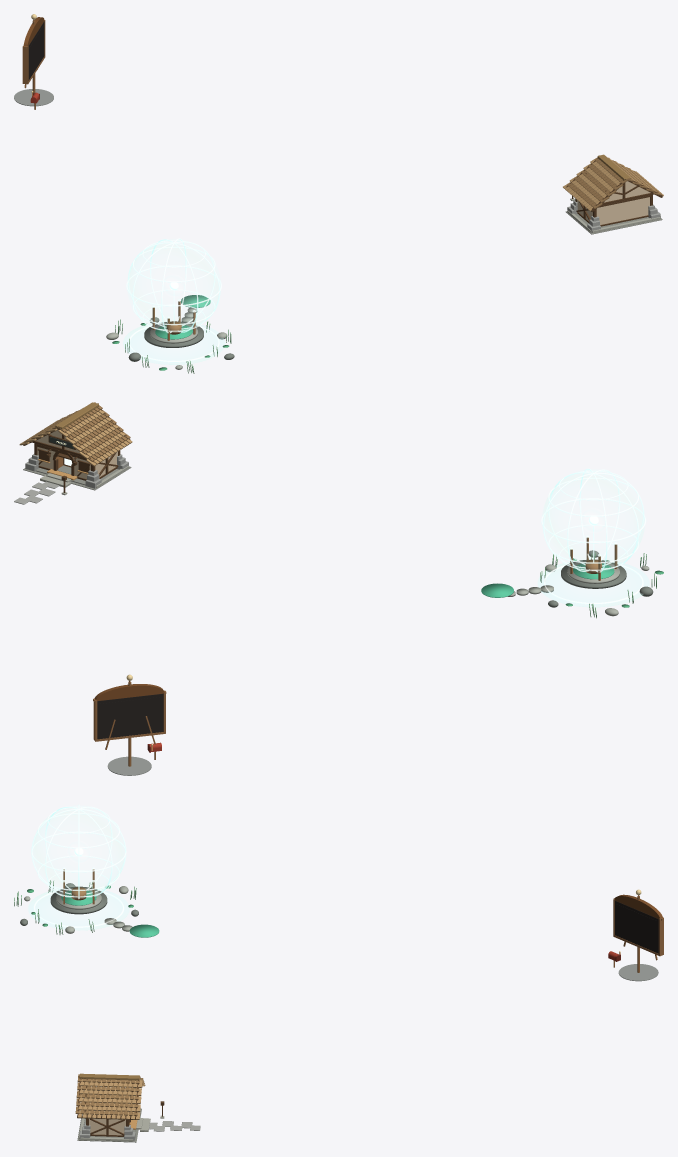
Rendered from areas.glb.
3 views of the same model, one above another, from view 1: azimuth 30°, elevation 25°; view 2: azimuth 150°, elevation 25°; view 3: azimuth 270°, elevation 25° (orthographic). The views are drawn at different scales.
Parts seen in each view (by area): view 1: skillSphere_orb_shell, skillSphere_waterline_disc, projectHut_roof_shingles_b, projectHut_roof_shingles_a, projectHut_back_wall; view 2: skillSphere_orb_shell, skillSphere_waterline_disc, contactBoard_face_inset, projectHut_roof_shingles_a, projectHut_roof_shingles_b, contactBoard_arch_top, contactBoard_approach_pad, contact_inscription_plinth, skillSphere_plinth_lower; view 3: skillSphere_orb_shell, skillSphere_waterline_disc, projectHut_roof_shingles_a, projectHut_roof_shingles_b, contactBoard_face_inset, contactBoard_approach_pad, skillSphere_plinth_lower, contactBoard_arch_top.
Part boxes in pixels (left/top/right/bottom): skillSphere_orb_shell: left=128, top=239, right=220, bottom=332; skillSphere_waterline_disc: left=123, top=322, right=224, bottom=364; projectHut_roof_shingles_b: left=567, top=158, right=661, bottom=208; projectHut_roof_shingles_a: left=563, top=157, right=663, bottom=211; projectHut_back_wall: left=596, top=197, right=649, bottom=224; skillSphere_orb_shell: left=543, top=469, right=644, bottom=571; skillSphere_waterline_disc: left=538, top=560, right=649, bottom=606; contactBoard_face_inset: left=99, top=697, right=161, bottom=737; projectHut_roof_shingles_a: left=19, top=410, right=132, bottom=466; projectHut_roof_shingles_b: left=24, top=402, right=130, bottom=461; contactBoard_arch_top: left=94, top=684, right=164, bottom=700; contactBoard_approach_pad: left=107, top=756, right=151, bottom=775; contact_inscription_plinth: left=97, top=693, right=163, bottom=739; skillSphere_plinth_lower: left=561, top=559, right=626, bottom=588; skillSphere_orb_shell: left=33, top=806, right=124, bottom=897; skillSphere_waterline_disc: left=28, top=889, right=129, bottom=930; projectHut_roof_shingles_a: left=77, top=1078, right=145, bottom=1119; projectHut_roof_shingles_b: left=75, top=1074, right=142, bottom=1115; contactBoard_face_inset: left=616, top=904, right=657, bottom=951; contactBoard_approach_pad: left=618, top=964, right=658, bottom=981; skillSphere_plinth_lower: left=50, top=886, right=107, bottom=914; contactBoard_arch_top: left=614, top=894, right=662, bottom=918.
Size of the model in its own units: 79.6 by 14.68 by 83.16.
